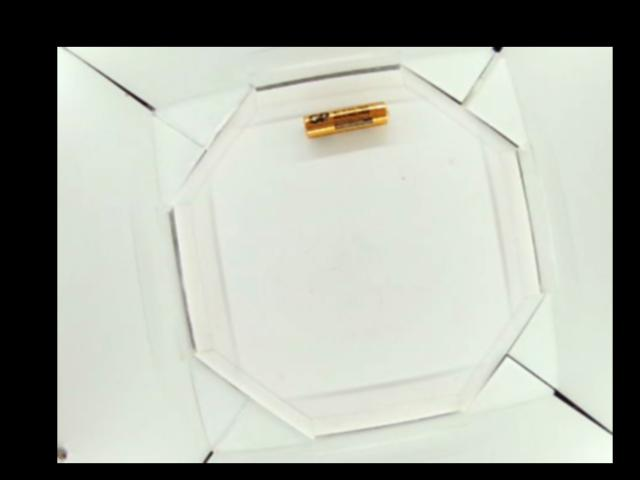Battery: (303, 99, 387, 140)
